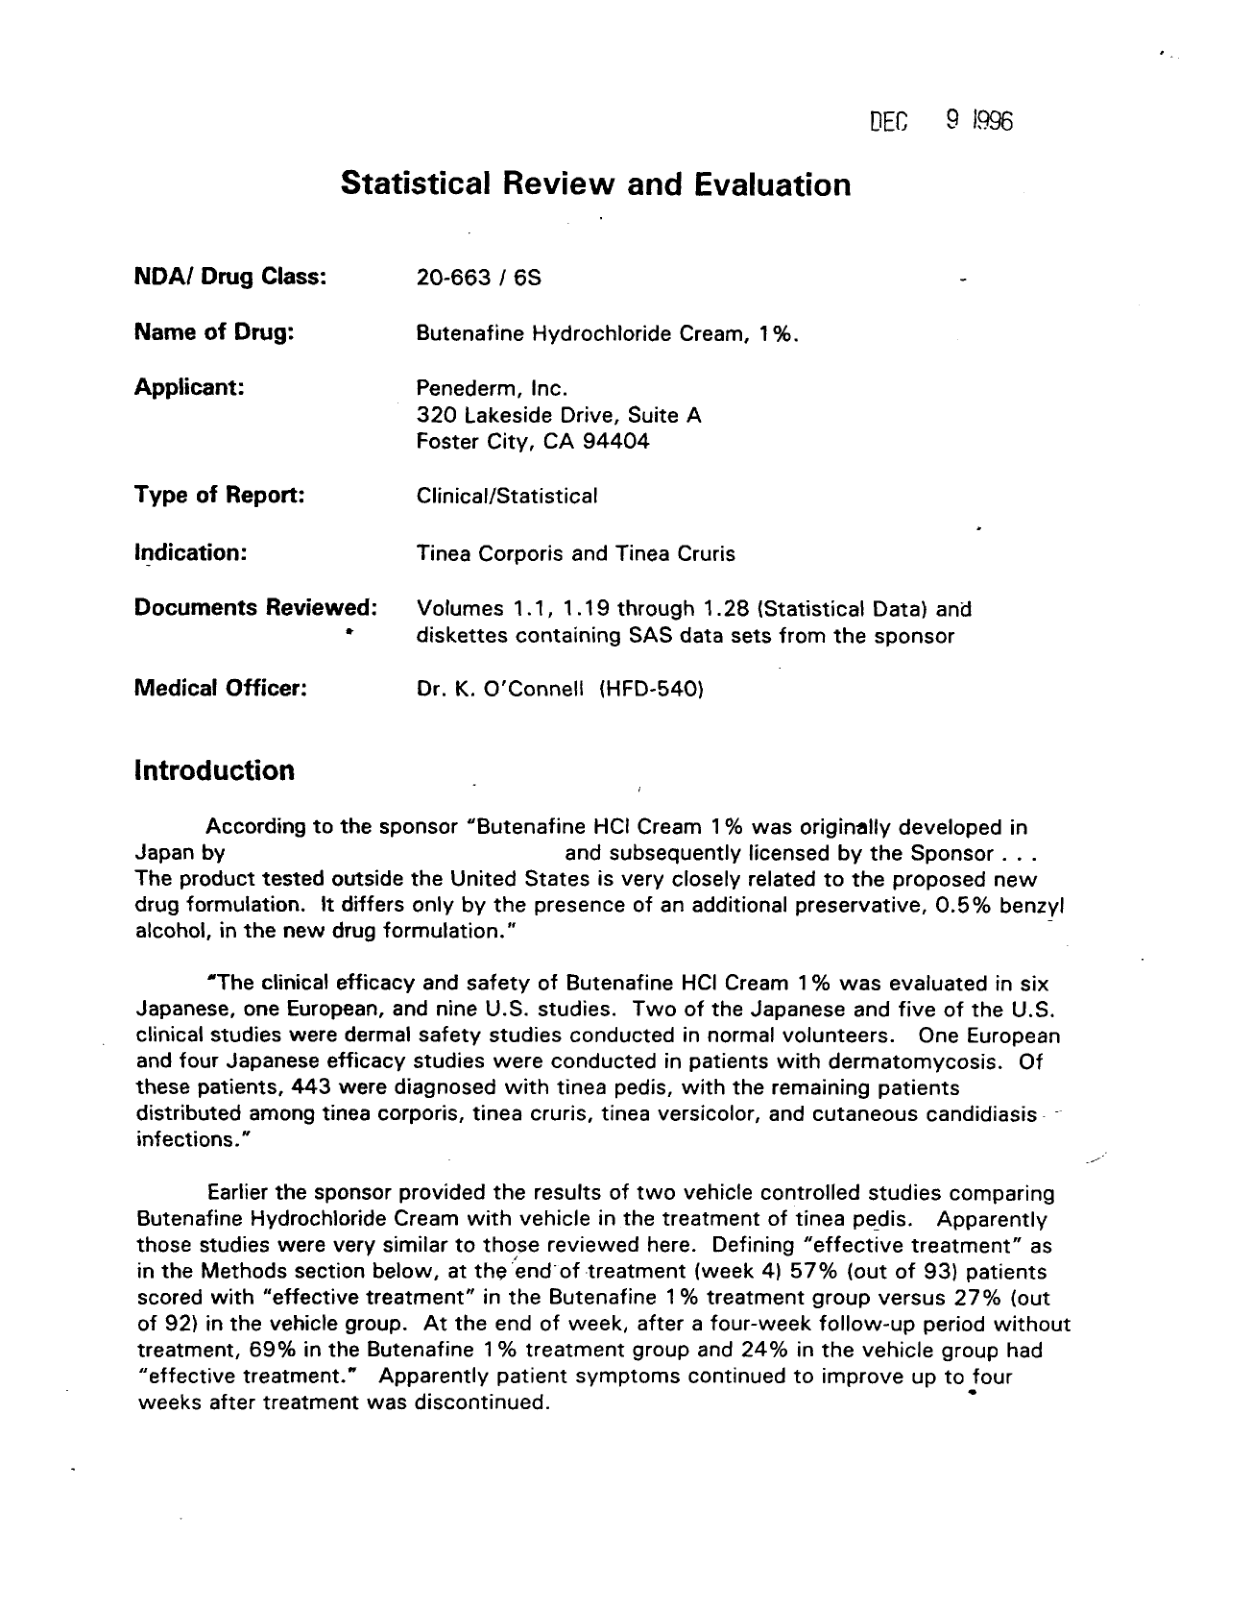nolines: (132, 261, 977, 700)
